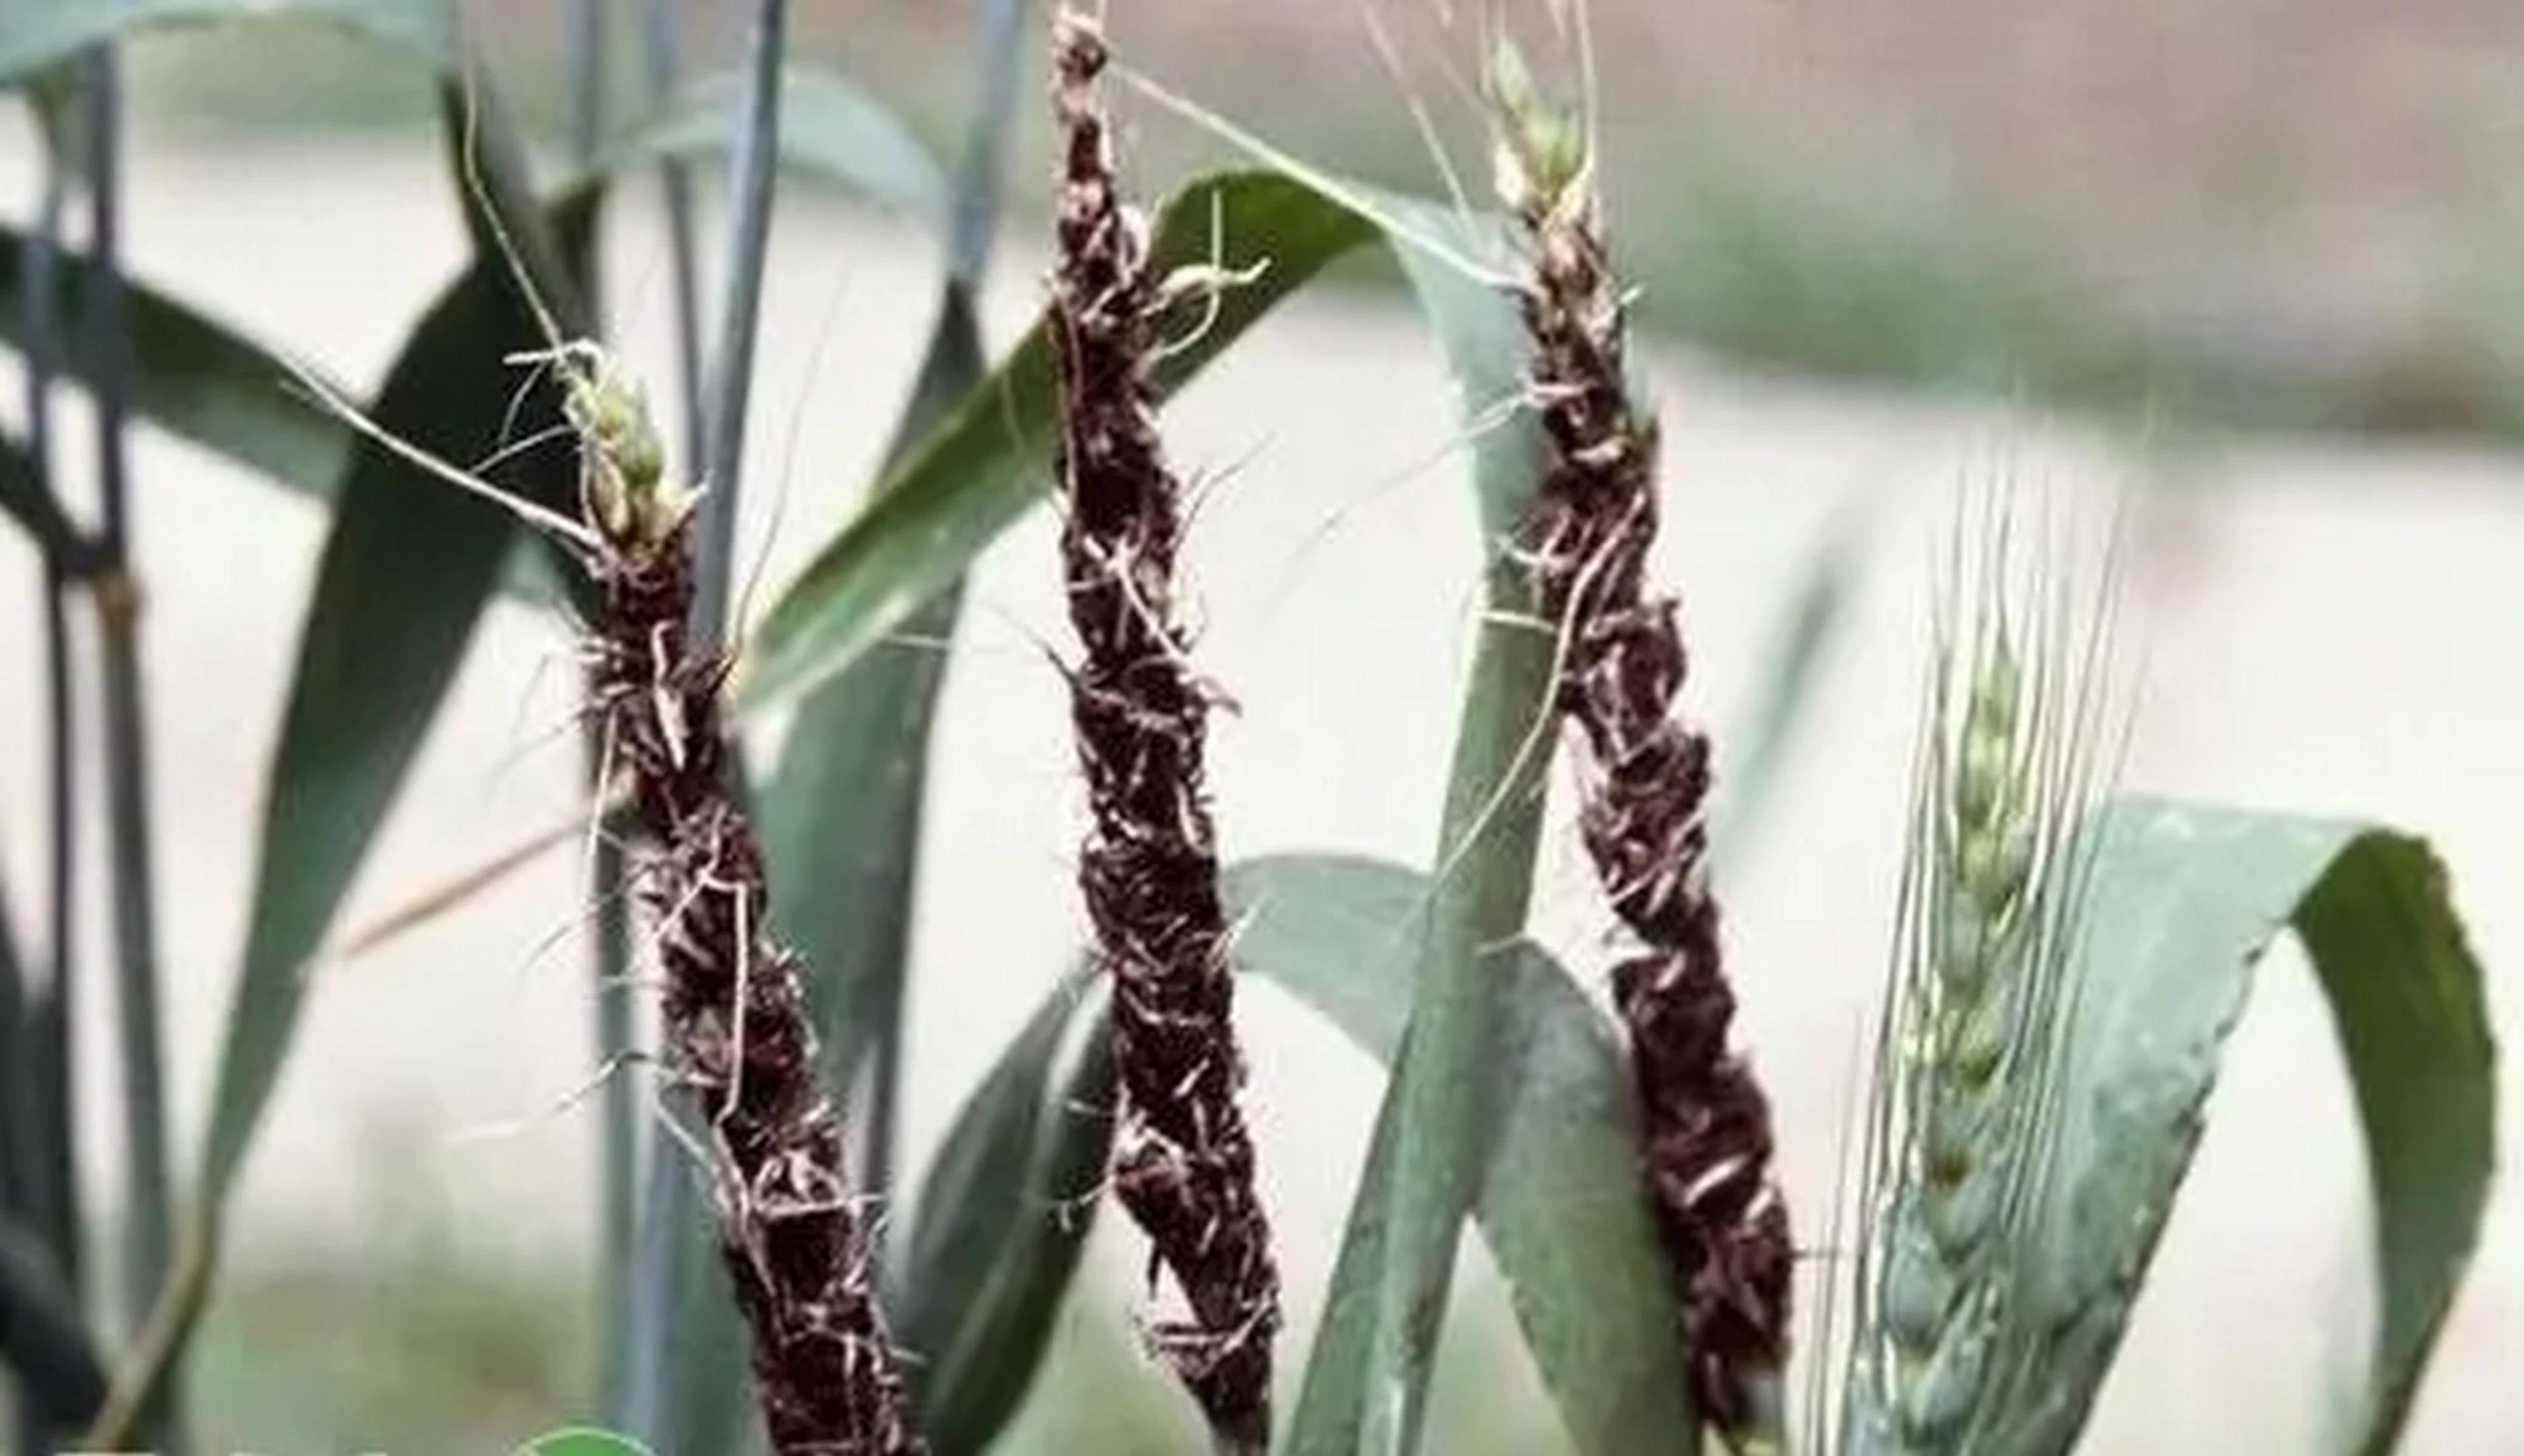Wheat Loose Smut: (988, 36, 1342, 1369), (499, 371, 924, 1430), (1465, 206, 1838, 1394)
